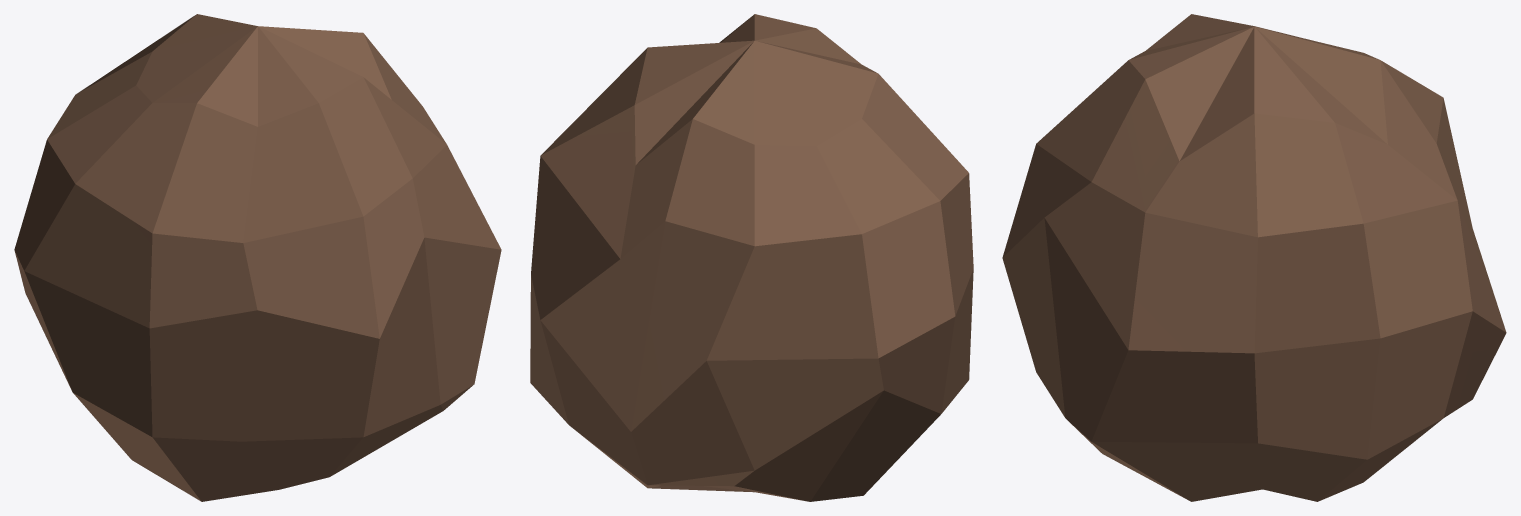
File: meteor_vf.FBX
3 views of the same model, side by side, from view 1: azimuth 30°, elevation 25°; view 2: azimuth 150°, elevation 25°; view 3: azimuth 270°, elevation 25° (orthographic). The views are drawn at different scales.
Parts seen in each view (by area): view 1: Sphere001; view 2: Sphere001; view 3: Sphere001.
Boxes of the visible parts, left/top/right/bottom form: Sphere001: left=14, top=14, right=501, bottom=501; Sphere001: left=530, top=14, right=973, bottom=501; Sphere001: left=1002, top=14, right=1506, bottom=501.
Bounding box in the file's own units: 61.17 × 64.23 × 63.81.
1 material, 1 textured.
